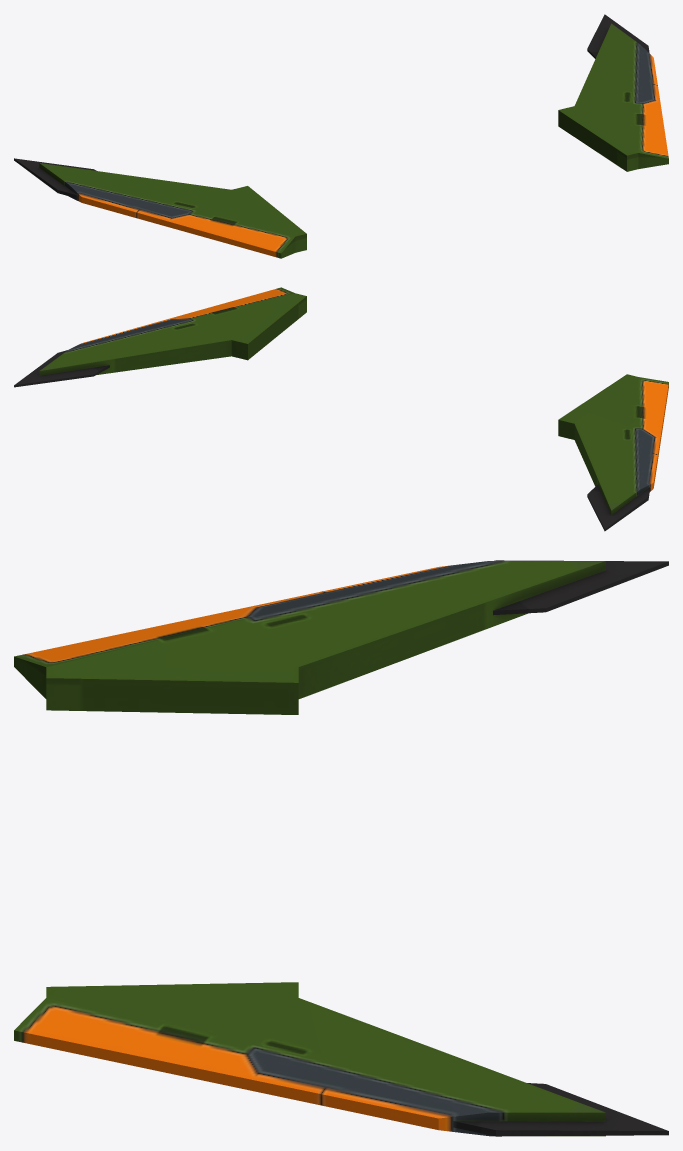
Rendered from Mod-G_blue.FBX.
3 renders of one model, top to bottom at view 1: azimuth 30°, elevation 25°; view 2: azimuth 150°, elevation 25°; view 3: azimuth 270°, elevation 25°, orthographic. The views are drawn at different scales.
Visible parts, largest first — view 1: Mod-G_Right, Mod-G_Left; view 2: Mod-G_Left, Mod-G_Right; view 3: Mod-G_Left, Mod-G_Right.
Boxes of the visible parts, box(x1,y1,x2,y2) form: Mod-G_Right: box(14, 158, 306, 258); Mod-G_Left: box(558, 14, 668, 171); Mod-G_Left: box(14, 287, 306, 387); Mod-G_Right: box(558, 374, 668, 531); Mod-G_Left: box(14, 982, 668, 1136); Mod-G_Right: box(14, 560, 668, 714).
Size of the model in its own units: 9237 by 4488 by 244.
